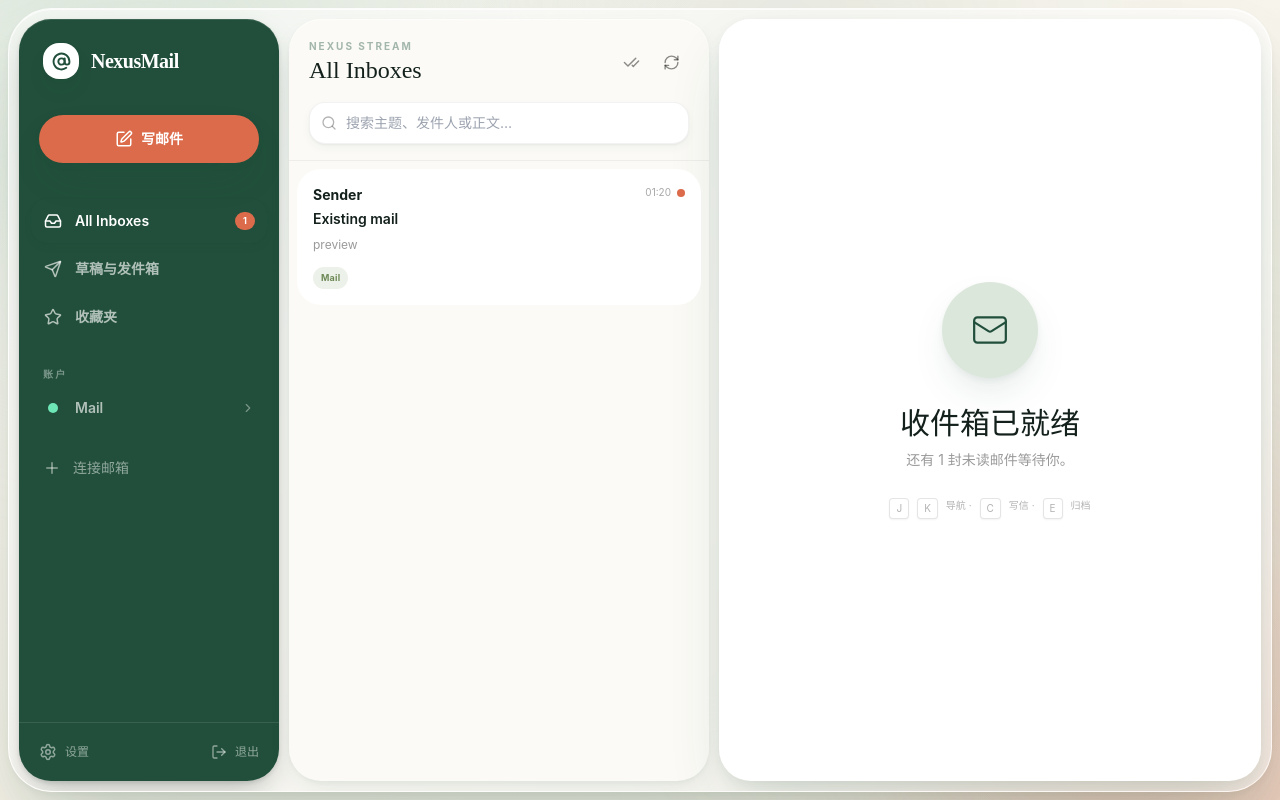
it: realtime mail delivery › keeps a single socket alive across view changes so no event is missed
The image size is (1280, 800).
Expected: the text "Existing mail" is shown, [313,210,398,227]
Click the button "Mail" at (149, 408), box [31,386,267,430]
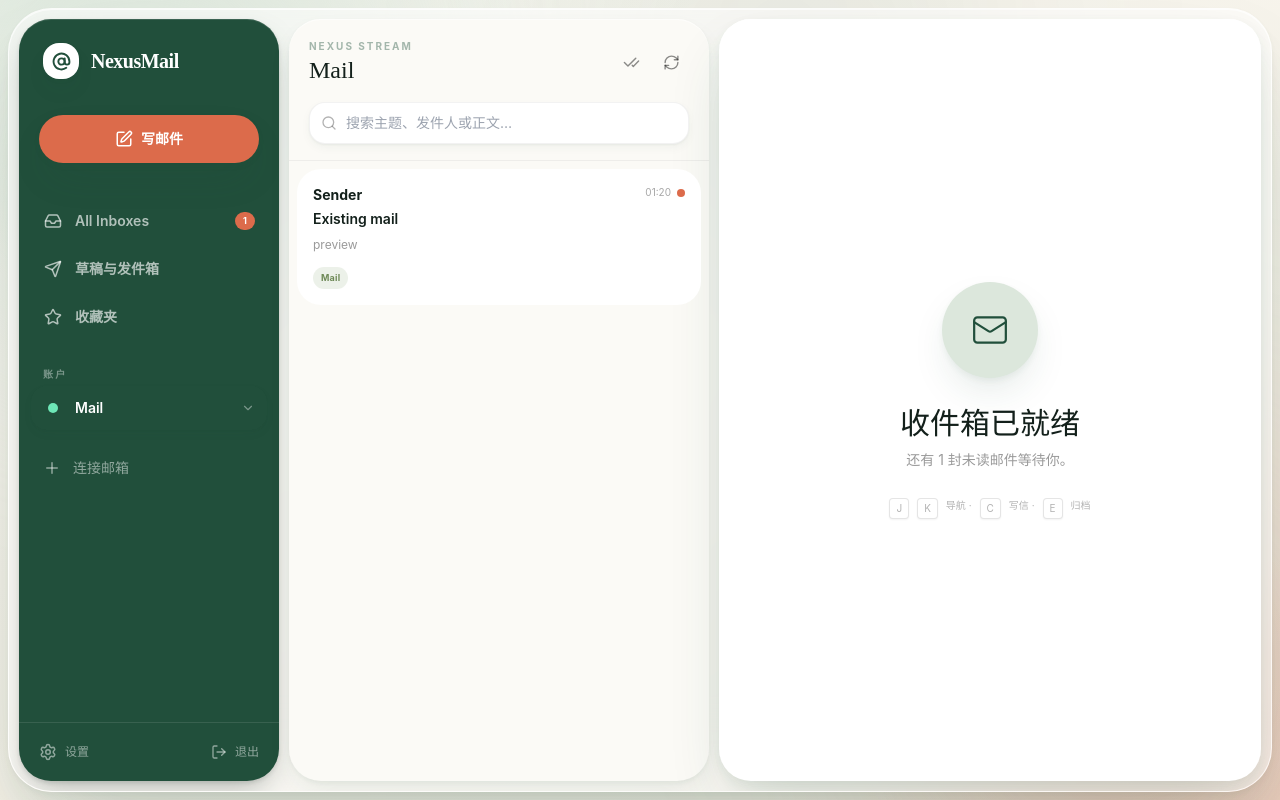
Result: the heading "Mail" is shown at [309,57,354,83]
